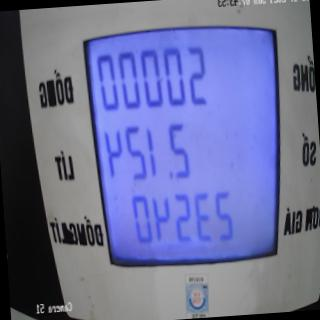screen: (77, 1, 296, 278)
